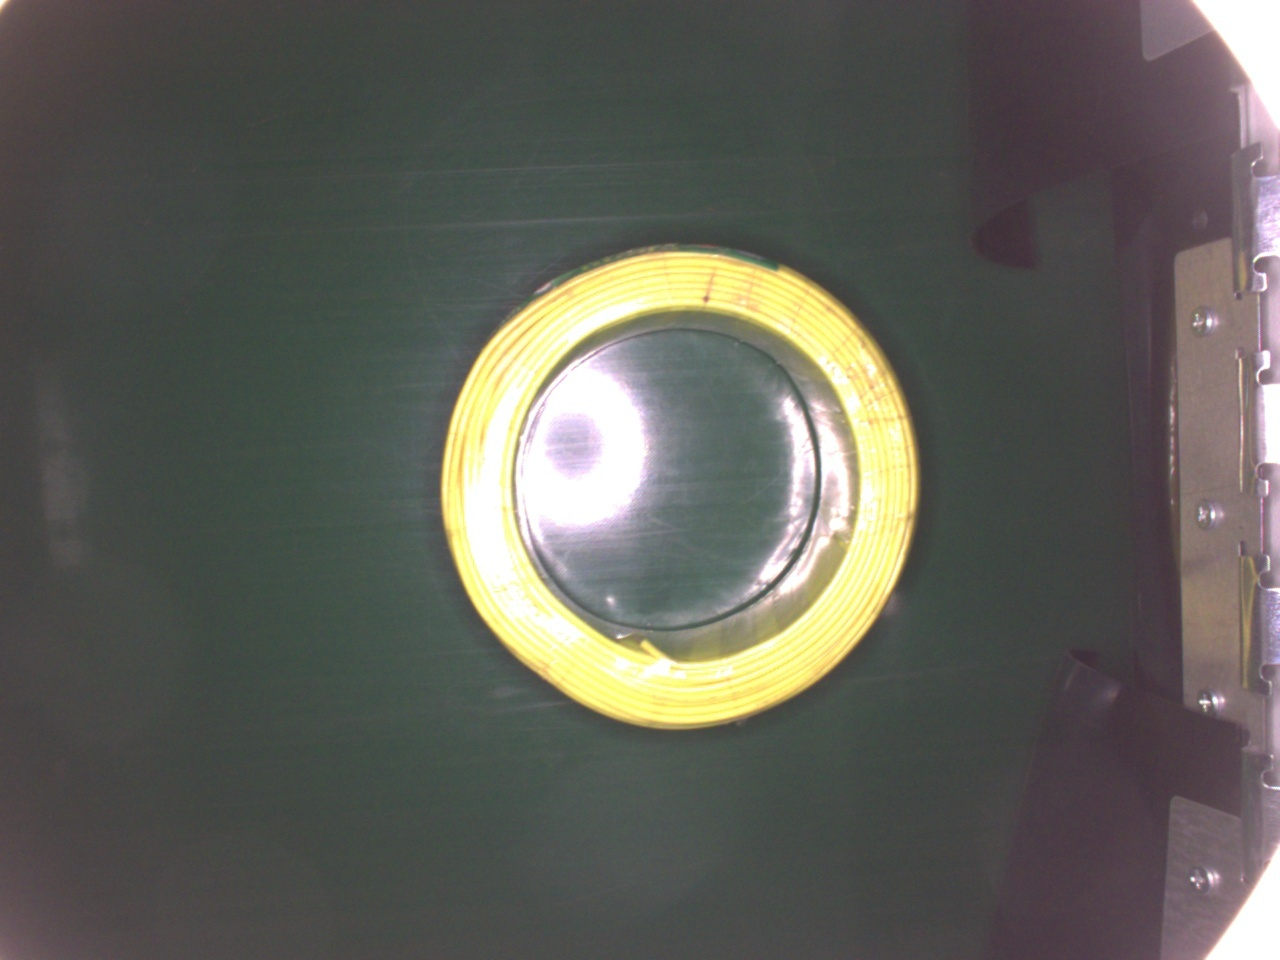yellow: (436, 244, 924, 727)
